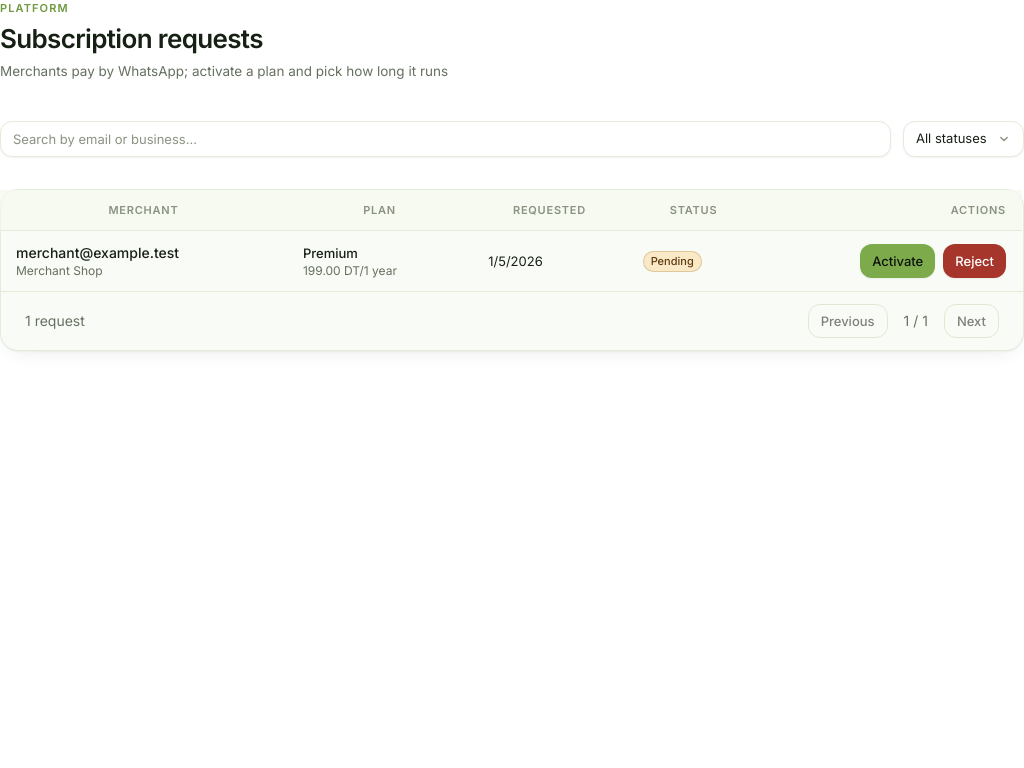
Test: platform subscriptions page › activates a request with a duration preset
The image size is (1024, 768).
Click the button "Activate": [898, 261] box [860,244,935,278]
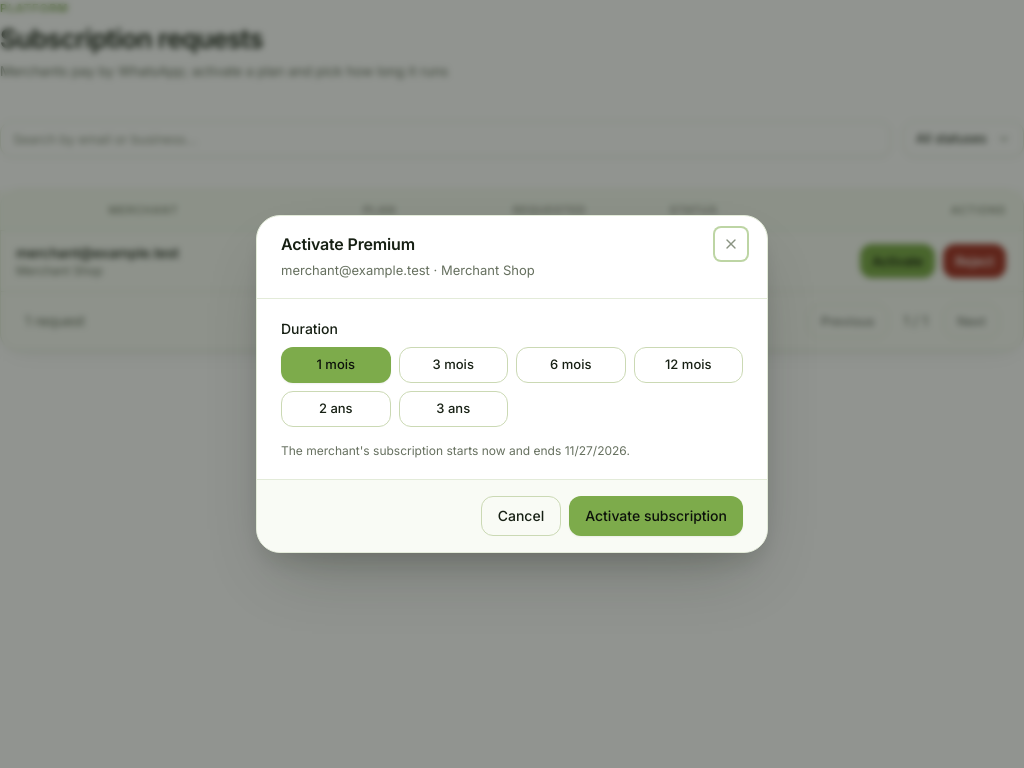
Now the heading "Activate Premium" is shown, box [281,234,415,254]
Now the text "The merchant's subscription starts now and ends 11/27/2026." is shown, box [281,443,630,458]
Click the button "3 mois": [453, 365] box [398,347,508,383]
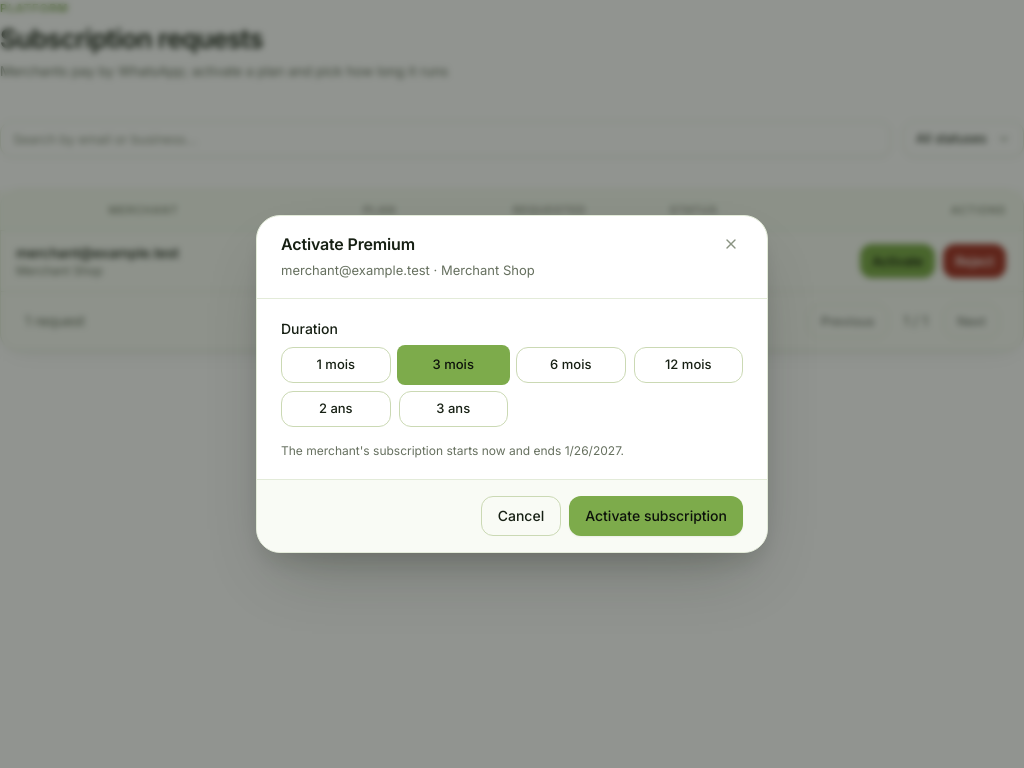
Click the button "Activate subscription": [656, 516] box [569,496,743,536]
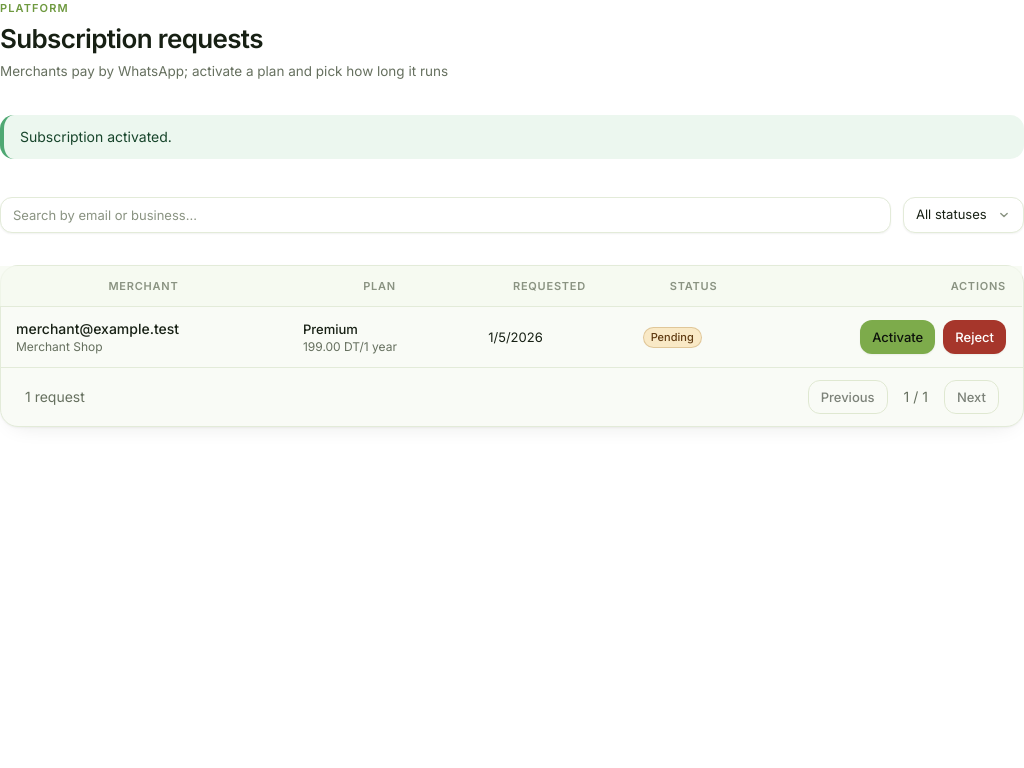
Now the message reads "Subscription activated.", box [20,128,172,145]
Now the heading "Activate Premium" is gone
